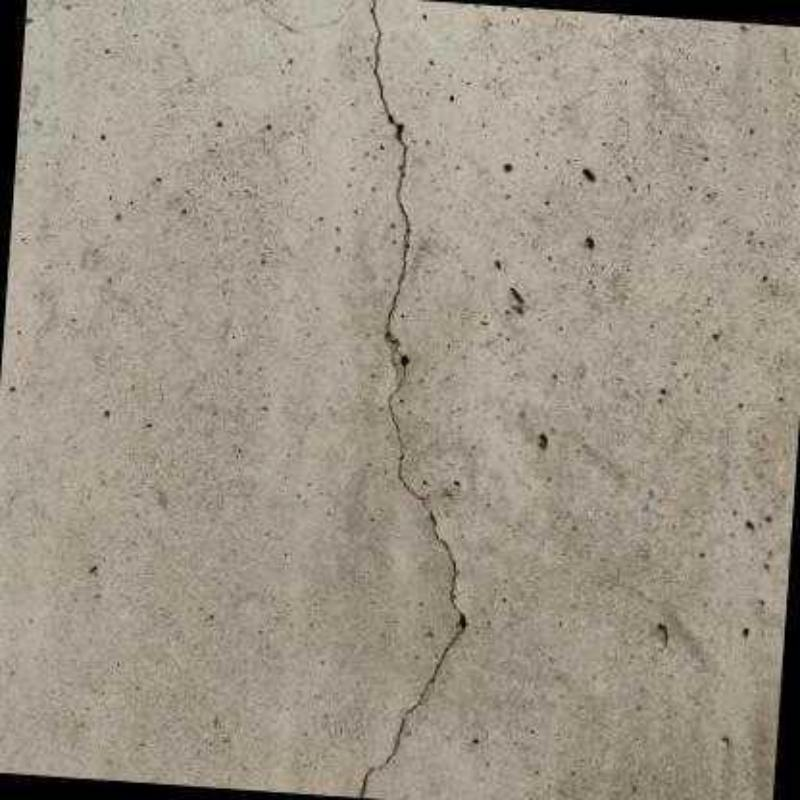pothole: (357, 0, 470, 798)
